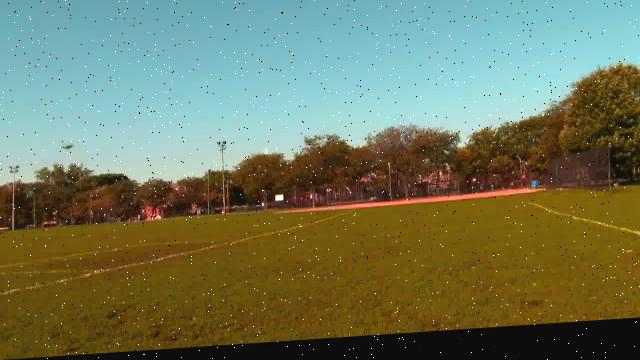drone: (61, 138, 77, 157)
